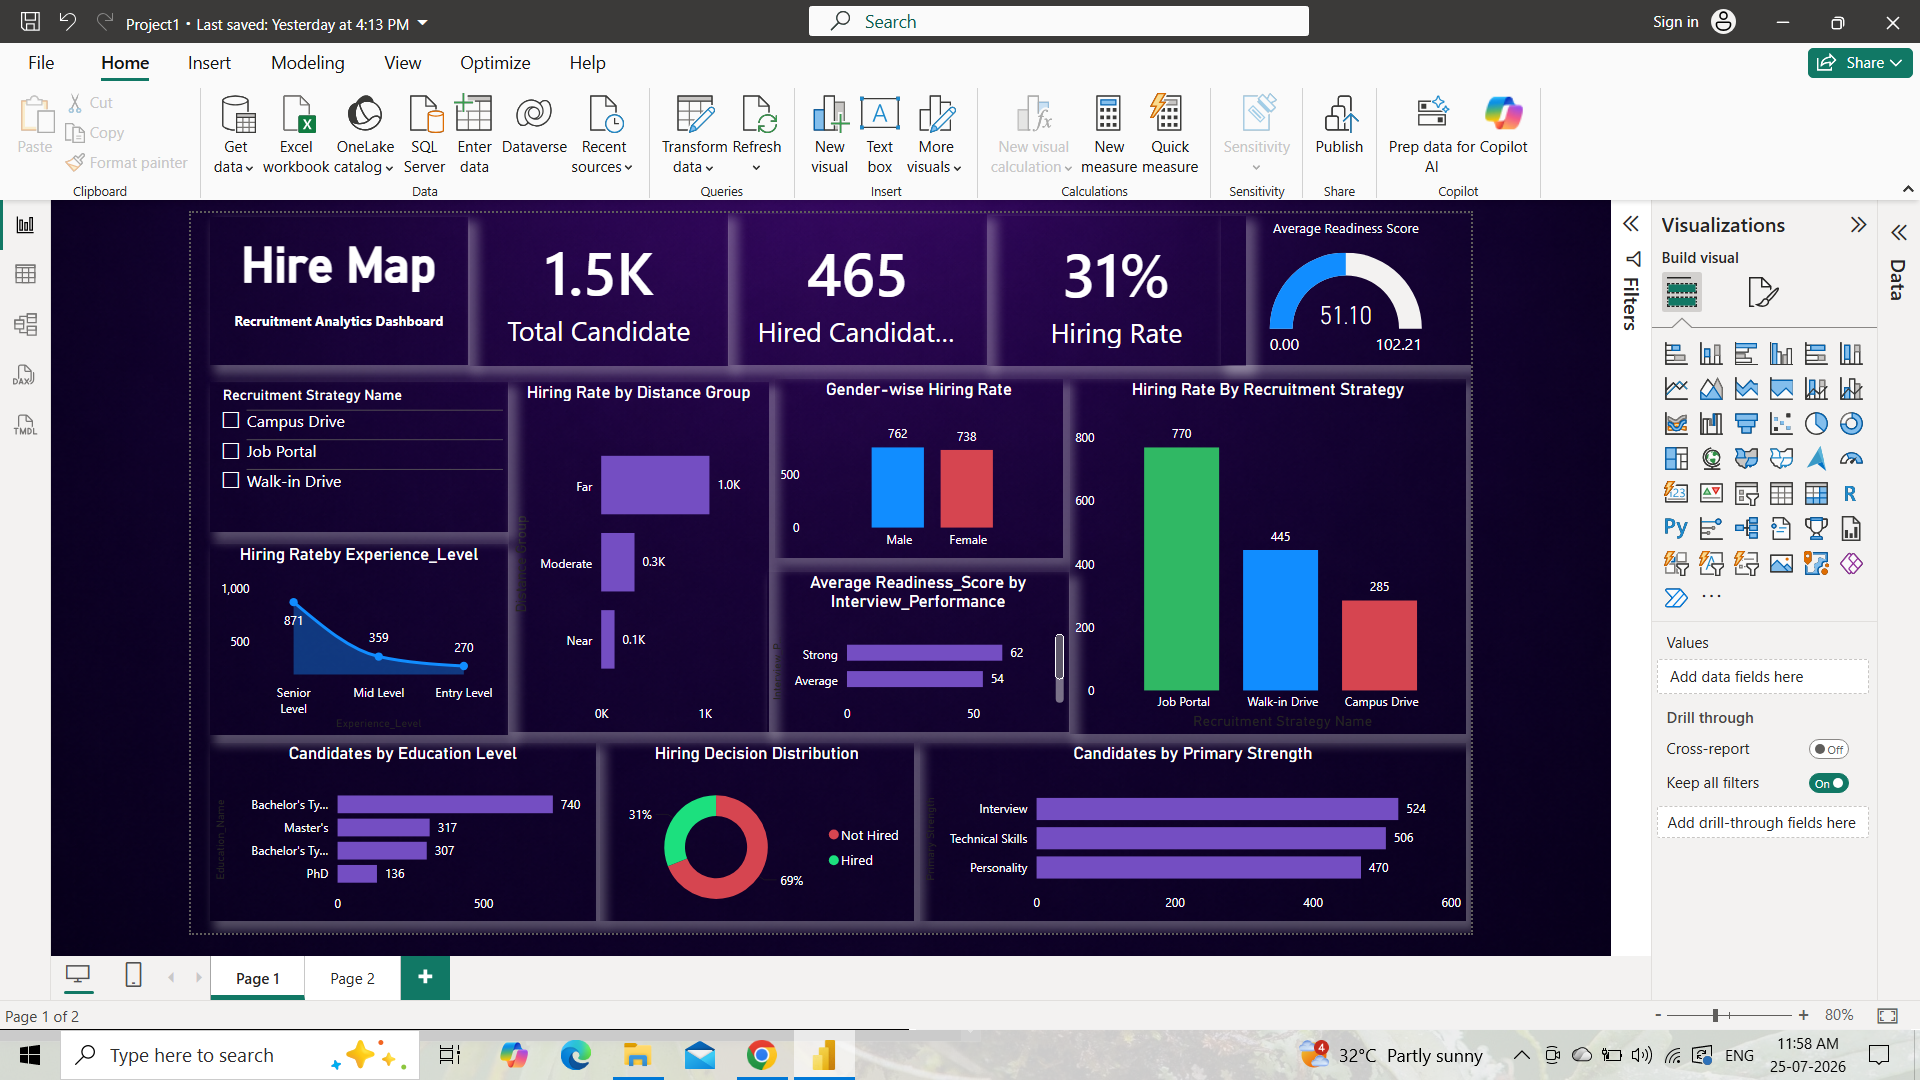

What the dashboard file says about the page in this screenshot:
{"tool":"powerbi","page":{"name":"Page 1","canvas":[1280,720],"ordinal":0},"visuals":[{"type":"cardVisual","fields":{"Data":["CountNonNull(sqlrawdata.Candidate_Readiness_Score)"]},"box":[278.8,0,258.8,152.5],"z":0},{"type":"cardVisual","fields":{"Data":["sqlrawdata.Hired Candidates"]},"box":[537.5,1.2,258.8,151.2],"z":1000},{"type":"cardVisual","fields":{"Data":["sqlrawdata.Hiring Rate"]},"box":[796.2,2.5,258.8,150],"z":2000},{"type":"gauge","fields":{"Y":["sqlrawdata.Average Readiness Score"]},"box":[1030,1.2,250,151.2],"z":3000},{"type":"donutChart","title":"Hiring Decision Distribution","fields":{"Category":["sqlrawdata.Hiring_Decision_Name"],"Y":["CountNonNull(sqlrawdata.Hiring_Decision_Name)"]},"box":[408.3,530,314,178],"z":4000},{"type":"clusteredColumnChart","title":"Hiring Rate By Recruitment Strategy","fields":{"Category":["sqlrawdata.Recruitment Strategy Name"],"Y":["CountNonNull(sqlrawdata.Hiring_Decision_Name)"]},"box":[878.8,166.2,396.2,355],"z":5000},{"type":"clusteredColumnChart","title":"Gender-wise Hiring Rate","fields":{"Category":["sqlrawdata.Gender_Name"],"Y":["CountNonNull(sqlrawdata.Hiring_Decision_Name)"]},"box":[583.3,166.7,288.3,178.3],"z":6000},{"type":"barChart","title":"Candidates by Education Level","fields":{"Category":["sqlrawdata.Education_Name"],"Y":["CountNonNull(sqlrawdata.Candidate_id)"]},"box":[18.8,530,386.2,178.8],"z":7000},{"type":"areaChart","title":" Hiring Rateby Experience_Level","fields":{"Category":["sqlrawdata.Experience_Level"],"Y":["CountNonNull(sqlrawdata.Candidate_id)"]},"box":[18.8,331.2,298.3,190],"z":8000},{"type":"barChart","title":"Hiring Rate by Distance Group","fields":{"Category":["sqlrawdata.Distance Group"],"Y":["CountNonNull(sqlrawdata.Hiring_Decision_Name)"]},"box":[317.5,168.8,260,350],"z":9000},{"type":"clusteredBarChart","title":"Average Readiness_Score by Interview_Performance","fields":{"Category":["sqlrawdata.Interview_Performance"],"Y":["sqlrawdata.Average Readiness Score"]},"box":[576.7,358.3,301.7,160],"z":10000},{"type":"barChart","title":" Candidates by Primary Strength","fields":{"Category":["sqlrawdata.Primary Strength"],"Y":["CountNonNull(sqlrawdata.Candidate_id)"]},"box":[728.8,530,546.2,177.5],"z":11000},{"type":"slicer","fields":{"Values":["sqlrawdata.Recruitment Strategy Name"]},"box":[18.8,168.8,298.3,150],"z":12000},{"type":"textbox","title":"Hire Map","box":[18.3,3.3,258.3,148.3],"z":13000}]}

Visuals, with their boxes on the page's 1280x720 design canvas (x1, y1, x2, y2). These are canvas units, not pixel positions in the 1920x1080 screenshot, which may show the page scaled, cropped or inside an application window:
cardVisual - CountNonNull(sqlrawdata.Candidate_Readiness_Score): 279/0/538/152
cardVisual - sqlrawdata.Hired Candidates: 538/1/796/152
cardVisual - sqlrawdata.Hiring Rate: 796/2/1055/152
gauge - sqlrawdata.Average Readiness Score: 1030/1/1280/152
"Hiring Decision Distribution" donutChart: 408/530/722/708
"Hiring Rate By Recruitment Strategy" clusteredColumnChart: 879/166/1275/521
"Gender-wise Hiring Rate" clusteredColumnChart: 583/167/872/345
"Candidates by Education Level" barChart: 19/530/405/709
" Hiring Rateby Experience_Level" areaChart: 19/331/317/521
"Hiring Rate by Distance Group" barChart: 318/169/578/519
"Average Readiness_Score by Interview_Performance" clusteredBarChart: 577/358/878/518
" Candidates by Primary Strength" barChart: 729/530/1275/708
slicer - sqlrawdata.Recruitment Strategy Name: 19/169/317/319
"Hire Map" textbox: 18/3/277/152
